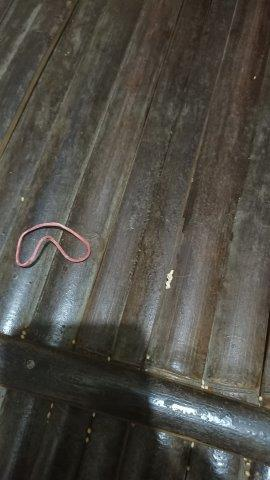karet: (16, 222, 91, 267)
